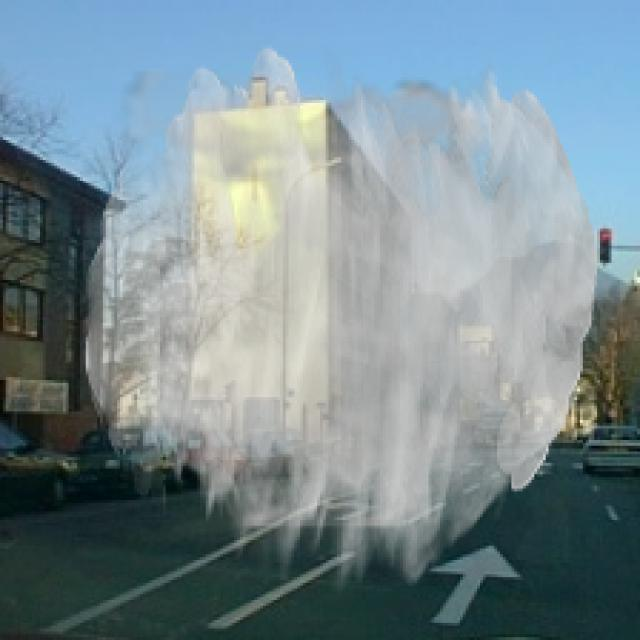Smoke: (82, 46, 598, 592)
